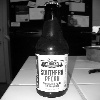beer: (36, 2, 73, 100)
